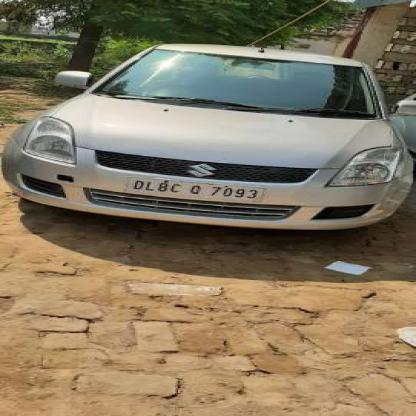license: (127, 177, 262, 207)
